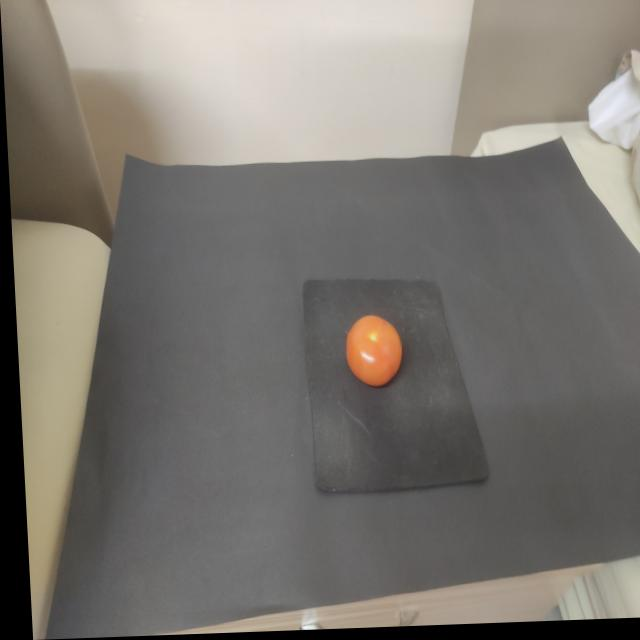sari: (334, 304, 403, 396)
